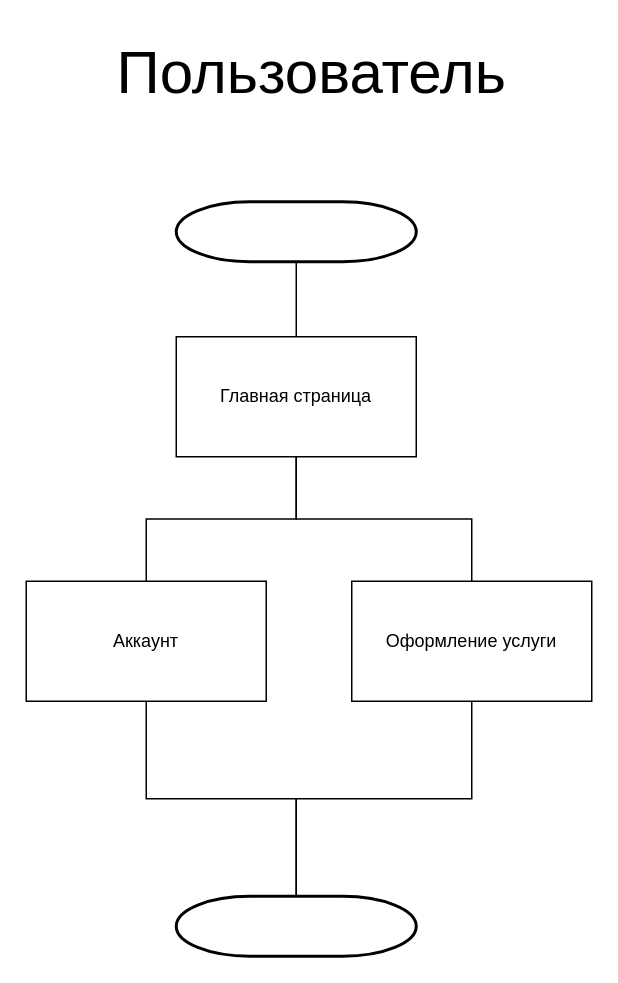
Some shapes in this 618 by 983 pixel diagram are drawn without their labels. Each missing label, with the centre of its shape:
"Конец" goes at [295,925].
"Начало" goes at [295,231].
